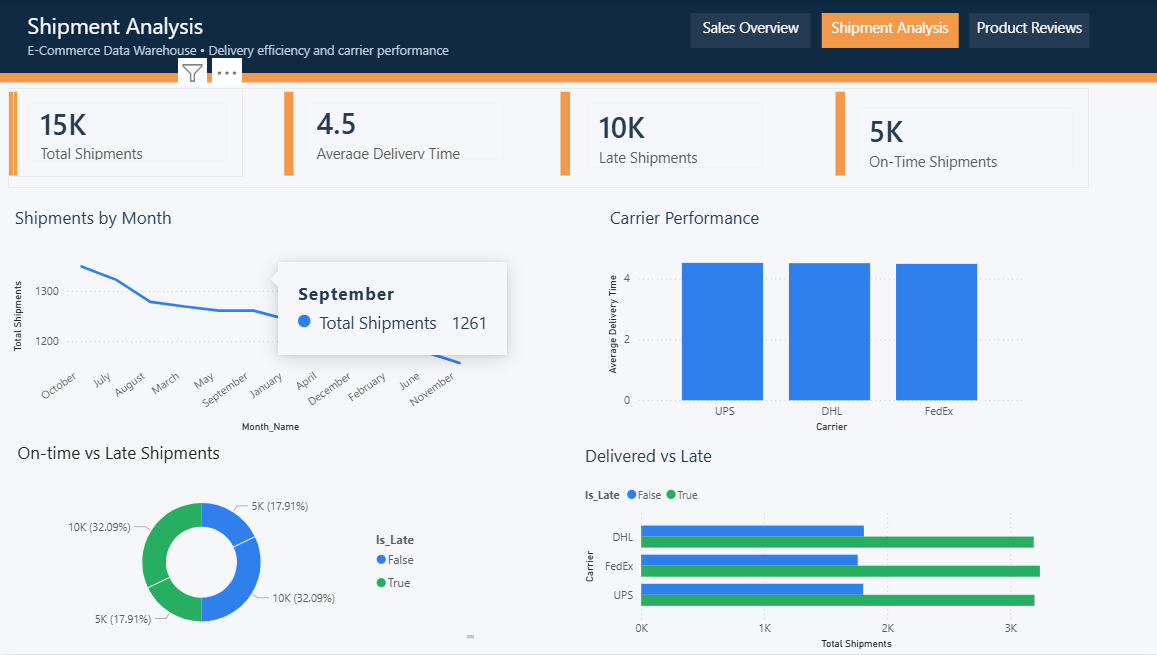

Layout of this report page (visuals, bound fields, positions):
{"tool":"powerbi","page":{"name":"Shipment Analysis","canvas":[1280,720],"ordinal":1},"visuals":[{"type":"textbox","box":[0,0,1280,86],"z":0},{"type":"textbox","box":[11,102.4,6,92],"z":0,"group":"g1"},{"type":"textbox","box":[0,82,1280,4],"z":1000},{"type":"textbox","box":[314,102.4,6,92],"z":1000,"group":"g1"},{"type":"textbox","box":[27.4,9.6,561.2,45.3],"z":2000},{"type":"textbox","box":[617,102.4,6,92],"z":2000,"group":"g1"},{"type":"textbox","box":[27.4,42.5,701.2,28.8],"z":3000},{"type":"textbox","box":[920,102.4,6,92],"z":3000,"group":"g1"},{"type":"textbox","box":[760,16,132,38],"z":4000},{"type":"cardVisual","fields":{"Data":["Fact_Shipment.Total Shipments"]},"box":[15.9,98.8,252.5,97.4],"z":4000,"group":"g1"},{"type":"textbox","box":[904,16,150,38],"z":5000},{"type":"cardVisual","fields":{"Data":["Fact_Shipment.Average Delivery Time"]},"box":[319.2,98.8,253.9,96.1],"z":5000,"group":"g1"},{"type":"textbox","box":[1066,16,132,38],"z":6000},{"type":"cardVisual","fields":{"Data":["Fact_Shipment.Late Shipments"]},"box":[629.3,98.8,227.8,105.7],"z":6000,"group":"g1"},{"type":"cardVisual","fields":{"Data":["Fact_Shipment.On-Time Shipments"]},"box":[925.7,102.9,271.7,105.7],"z":7000,"group":"g1"},{"type":"textbox","box":[13.7,223.7,569.5,37],"z":7000},{"type":"textbox","box":[666.9,223.7,499.5,37],"z":8000},{"type":"textbox","box":[16.5,481.6,355.4,38.4],"z":9000},{"type":"textbox","box":[639.5,484.4,499.5,35.7],"z":10000},{"type":"textbox","box":[28,695,500,14],"z":11000},{"type":"group","id":"g1","title":"Group 1","box":[11,98.8,1187,109.8],"z":12000},{"type":"lineChart","fields":{"Category":["DimDate.Month_Name"],"Y":["Fact_Shipment.Total Shipments"]},"box":[11,279.9,516,201.7],"z":13000},{"type":"clusteredColumnChart","fields":{"Category":["DimShipment.Carrier"],"Y":["Fact_Shipment.Average Delivery Time"]},"box":[664.2,260.7,467.9,220.9],"z":14000},{"type":"donutChart","fields":{"Category":["DimJunkStatus.Is_Late"],"Y":["Fact_Shipment.On-Time Shipments","Fact_Shipment.Late Shipments"]},"box":[27.4,531,454.2,177],"z":15000},{"type":"clusteredBarChart","fields":{"Category":["DimShipment.Carrier"],"Series":["DimJunkStatus.Is_Late"],"Y":["Fact_Shipment.Total Shipments"]},"box":[639.5,525.6,551.6,194.9],"z":16000},{"type":"actionButton","box":[760.2,13.7,129,39.8],"z":16001},{"type":"actionButton","box":[1066.2,16.5,131.7,39.8],"z":16002}]}

Visuals, with their boxes on the page's 1280x720 design canvas (x1, y1, x2, y2). These are canvas units, not pixel positions in the 1157x655 screenshot, which may show the page scaled, cropped or inside an application window:
textbox: bbox=(0, 0, 1280, 86)
textbox: bbox=(11, 102, 17, 194)
textbox: bbox=(0, 82, 1280, 86)
textbox: bbox=(314, 102, 320, 194)
textbox: bbox=(27, 10, 589, 55)
textbox: bbox=(617, 102, 623, 194)
textbox: bbox=(27, 42, 729, 71)
textbox: bbox=(920, 102, 926, 194)
textbox: bbox=(760, 16, 892, 54)
cardVisual - Fact_Shipment.Total Shipments: bbox=(16, 99, 268, 196)
textbox: bbox=(904, 16, 1054, 54)
cardVisual - Fact_Shipment.Average Delivery Time: bbox=(319, 99, 573, 195)
textbox: bbox=(1066, 16, 1198, 54)
cardVisual - Fact_Shipment.Late Shipments: bbox=(629, 99, 857, 204)
cardVisual - Fact_Shipment.On-Time Shipments: bbox=(926, 103, 1197, 209)
textbox: bbox=(14, 224, 583, 261)
textbox: bbox=(667, 224, 1166, 261)
textbox: bbox=(16, 482, 372, 520)
textbox: bbox=(640, 484, 1139, 520)
textbox: bbox=(28, 695, 528, 709)
"Group 1" group: bbox=(11, 99, 1198, 209)
lineChart - DimDate.Month_Name x Fact_Shipment.Total Shipments: bbox=(11, 280, 527, 482)
clusteredColumnChart - DimShipment.Carrier x Fact_Shipment.Average Delivery Time: bbox=(664, 261, 1132, 482)
donutChart - DimJunkStatus.Is_Late x Fact_Shipment.On-Time Shipments: bbox=(27, 531, 482, 708)
clusteredBarChart - DimShipment.Carrier x DimJunkStatus.Is_Late: bbox=(640, 526, 1191, 720)
actionButton: bbox=(760, 14, 889, 54)
actionButton: bbox=(1066, 16, 1198, 56)
